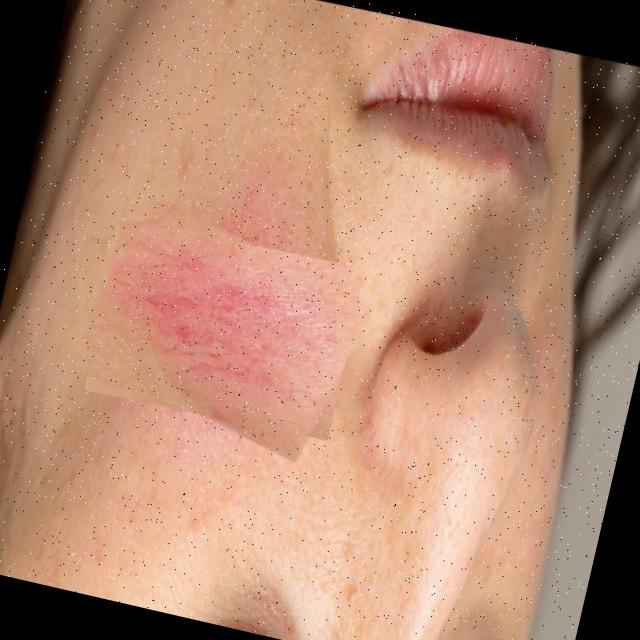redness: (116, 231, 339, 437)
